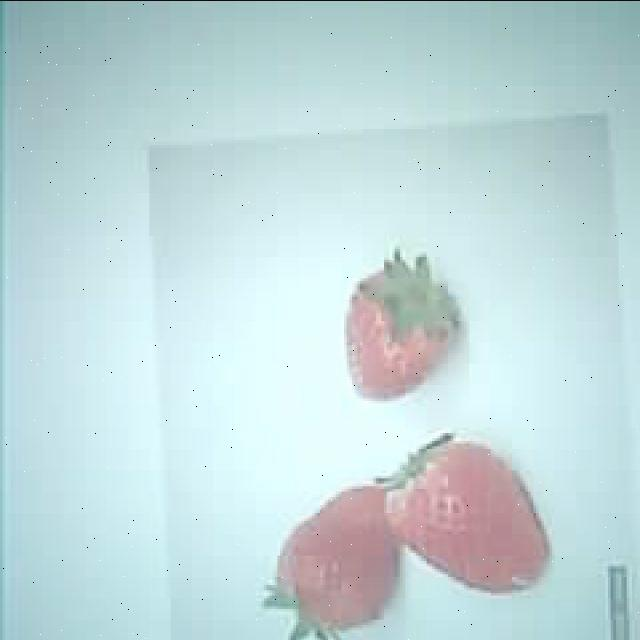strawberry: (388, 442, 542, 592), (278, 485, 392, 626), (345, 272, 453, 402)
